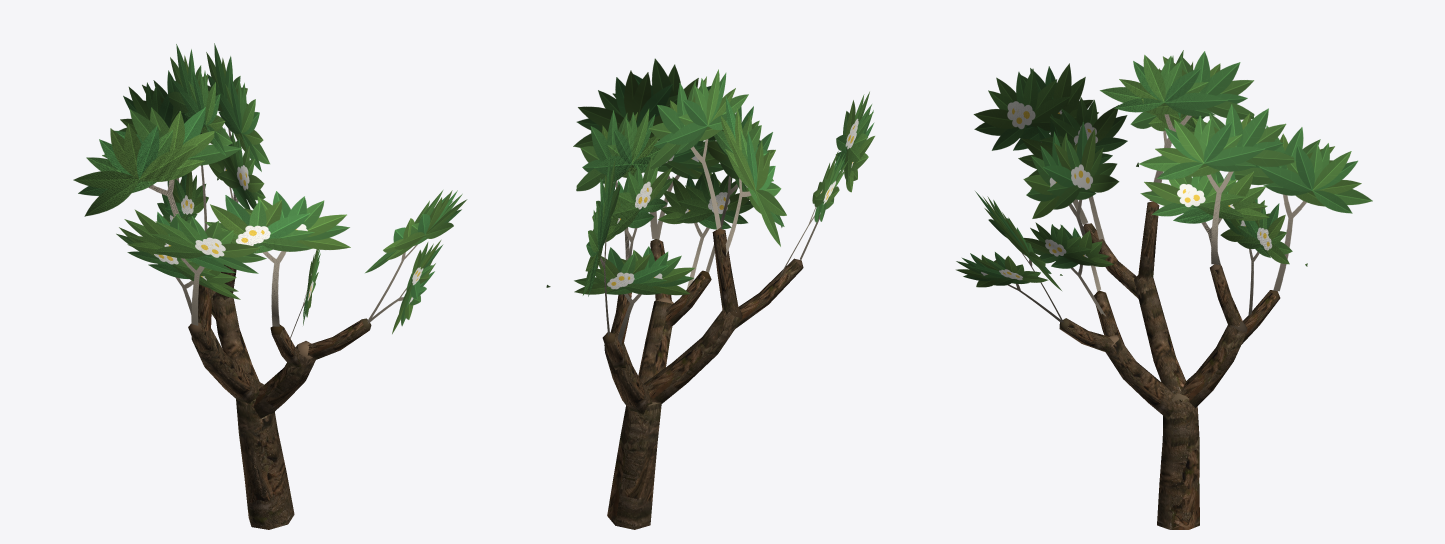
Rendered from veg_tree_frangipani_a.glb.
3 views of the same model, side by side, from view 1: azimuth 30°, elevation 25°; view 2: azimuth 150°, elevation 25°; view 3: azimuth 270°, elevation 25° (orthographic). The views are drawn at different scales.
Parts seen in each view (by area): view 1: Leaves, Trunk; view 2: Leaves, Trunk; view 3: Leaves, Trunk.
Part boxes in pixels (<box>): Leaves: <box>73,43,467,338</box>; Trunk: <box>188,264,371,529</box>; Leaves: <box>546,58,874,345</box>; Trunk: <box>602,228,803,529</box>; Leaves: <box>956,50,1372,322</box>; Trunk: <box>1059,201,1280,529</box>.
Bounding box in the file's own units: 18.39 × 22 × 21.62.
Materials: 2 (2 with a texture image).
